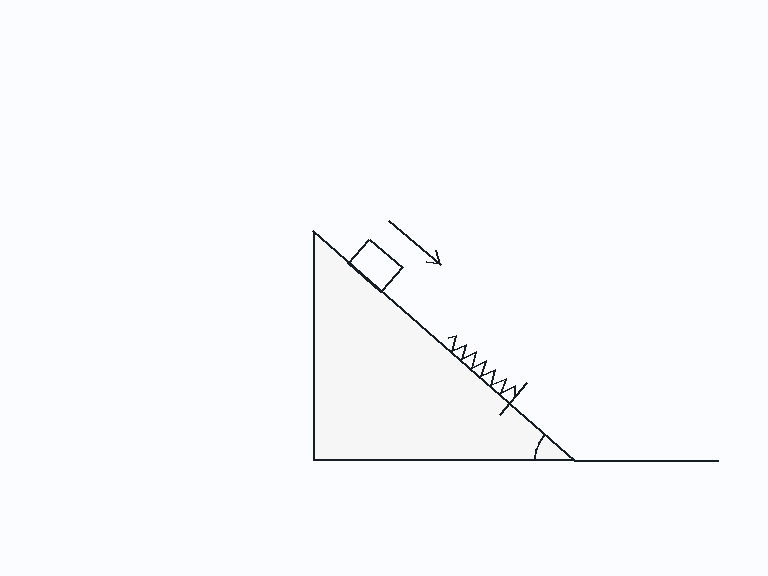block: (346, 236, 405, 294)
ramp: (311, 230, 577, 462)
spring: (445, 334, 517, 398)
